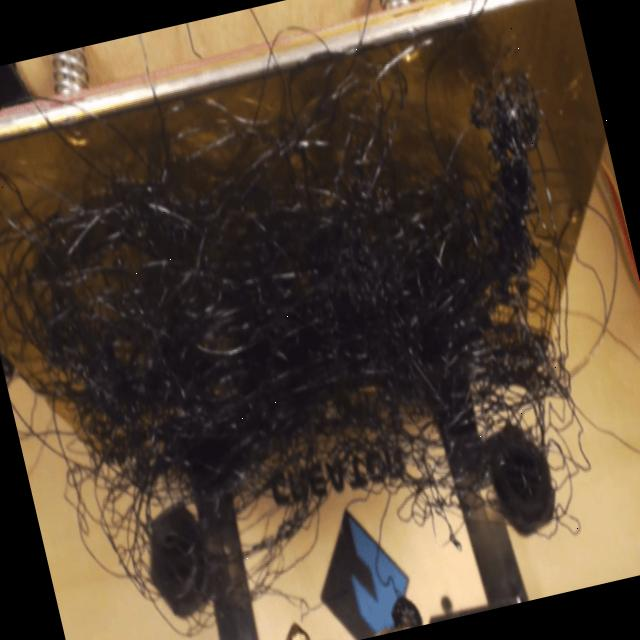spaghetti: (0, 41, 638, 640)
